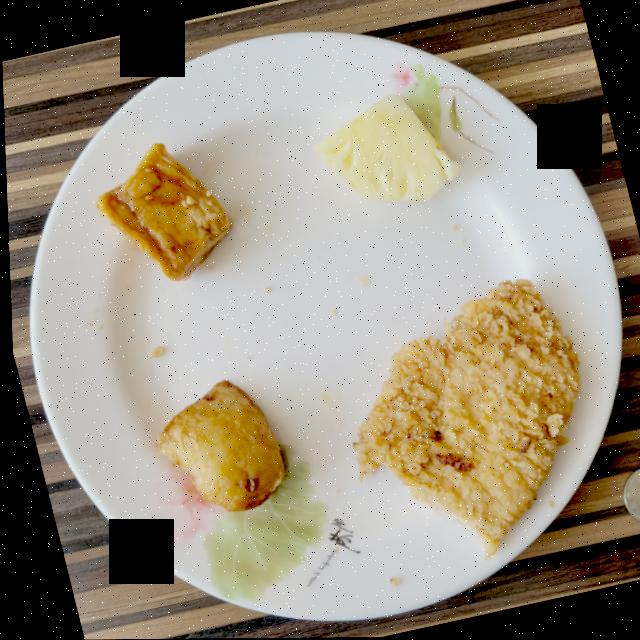coin: (619, 468, 640, 524)
creamy tofu: (94, 142, 231, 281)
fried chicken cutlet: (350, 279, 578, 559)
fried potato: (151, 380, 281, 512)
pineapple: (313, 94, 460, 202)
